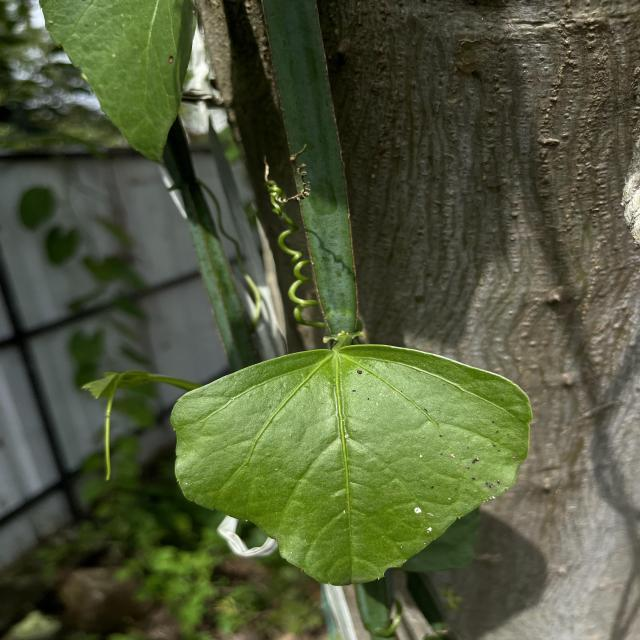Cissus quadrangularis: (168, 341, 536, 588)
